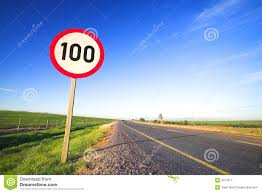Speed_limit_100km: (49, 28, 104, 78)
